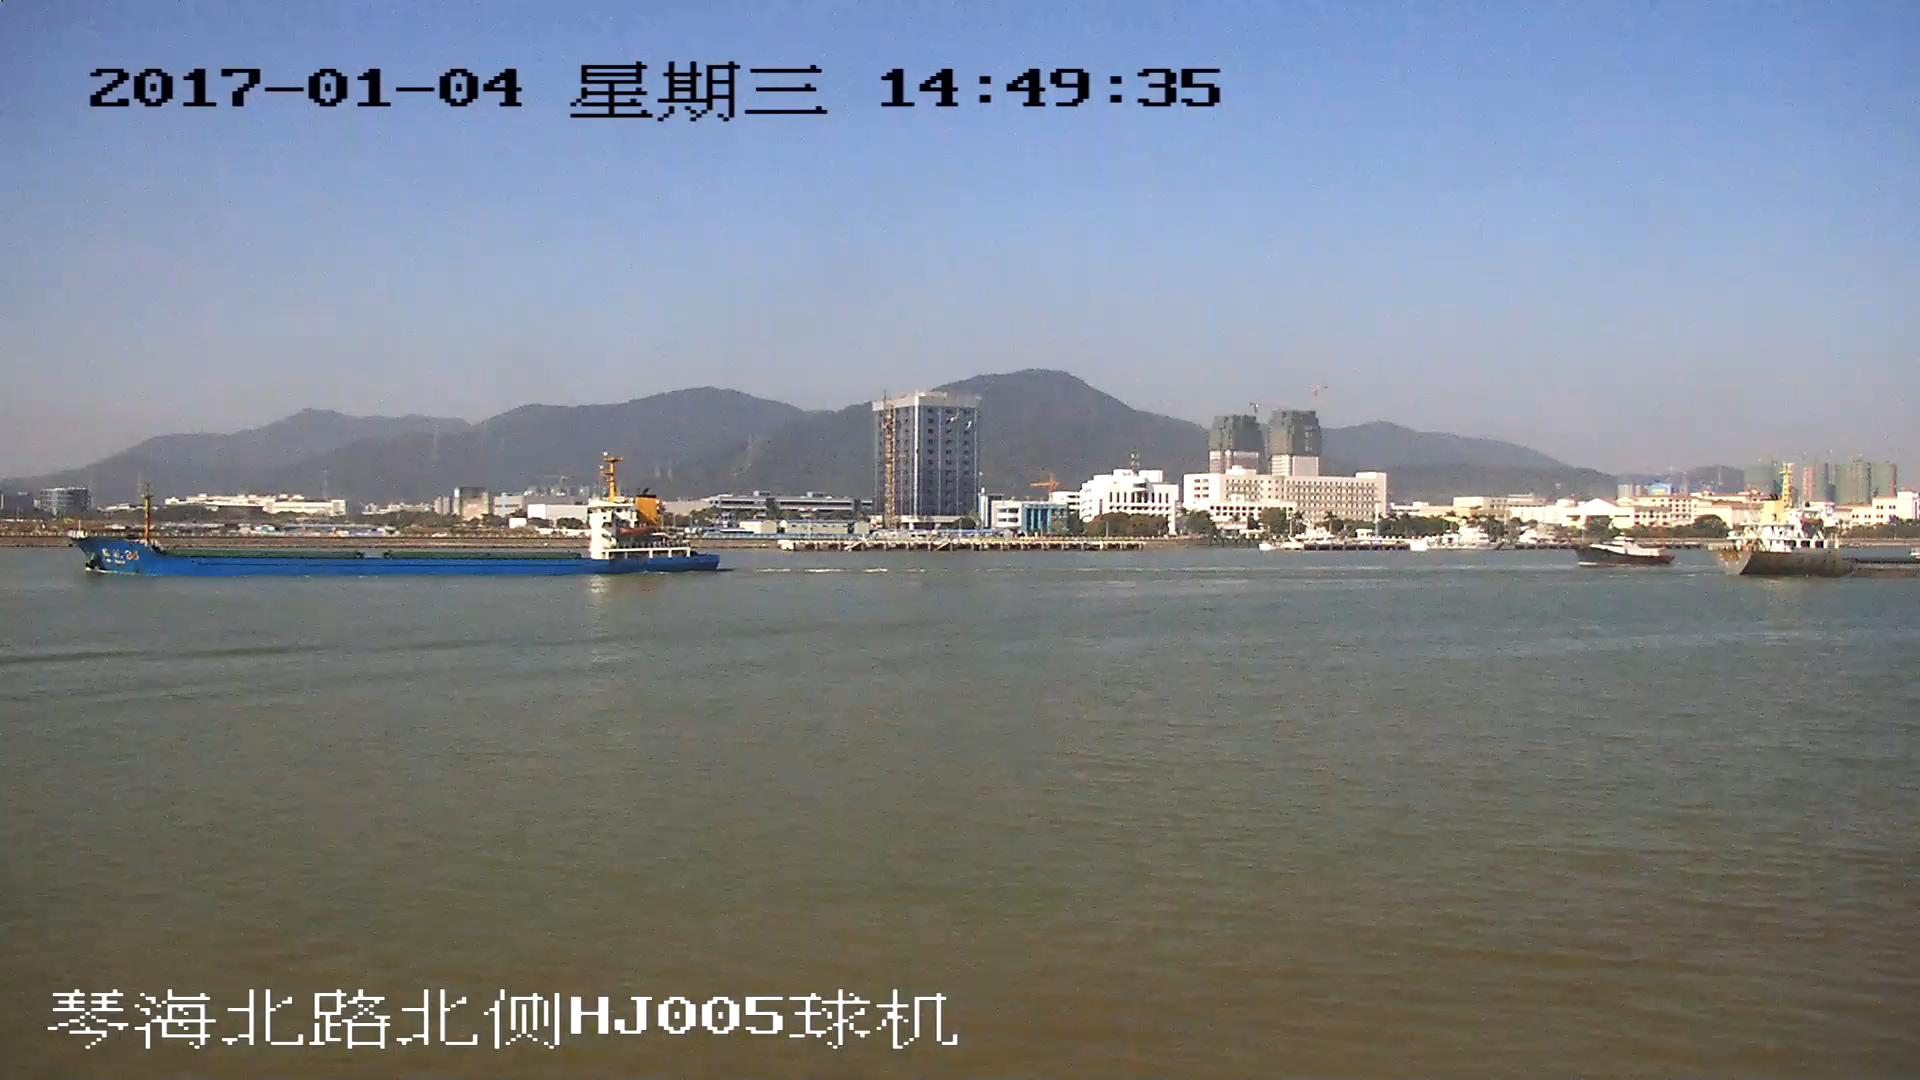general cargo ship: (69, 456, 717, 574), (1711, 467, 1920, 578)
